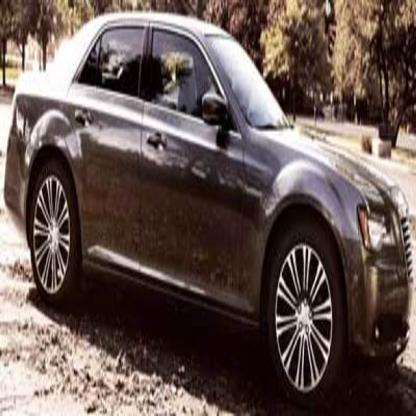Car: (4, 13, 414, 408)
